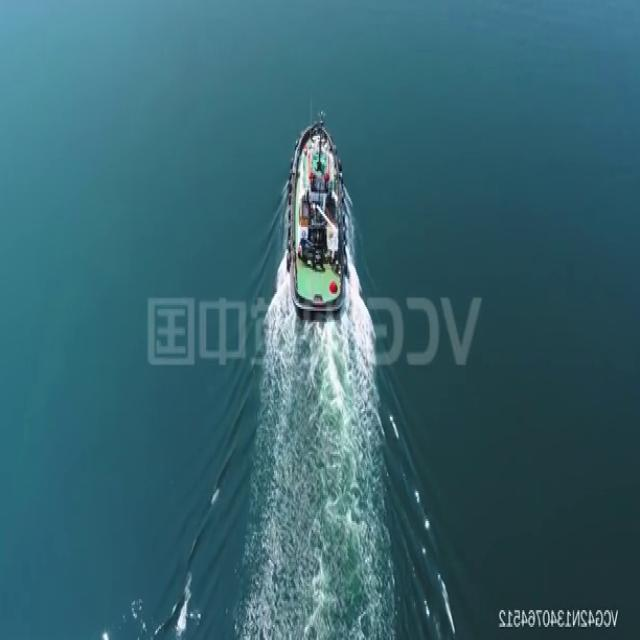houseboat: (285, 101, 350, 323)
